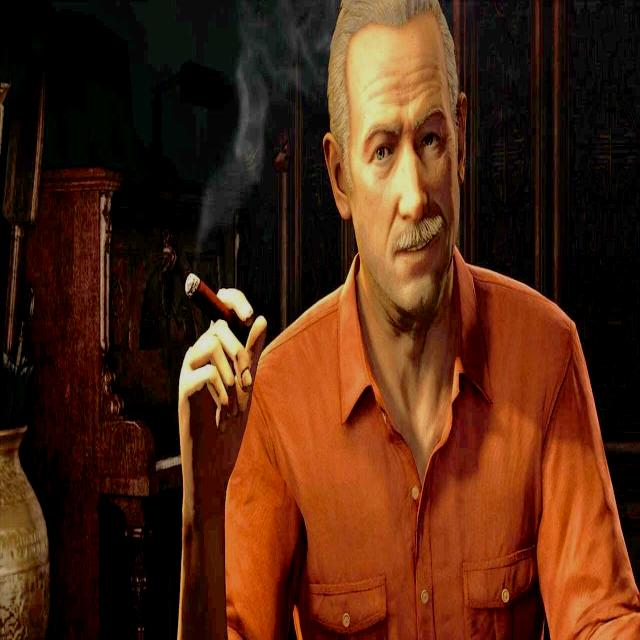Smooking: (177, 249, 256, 340)
